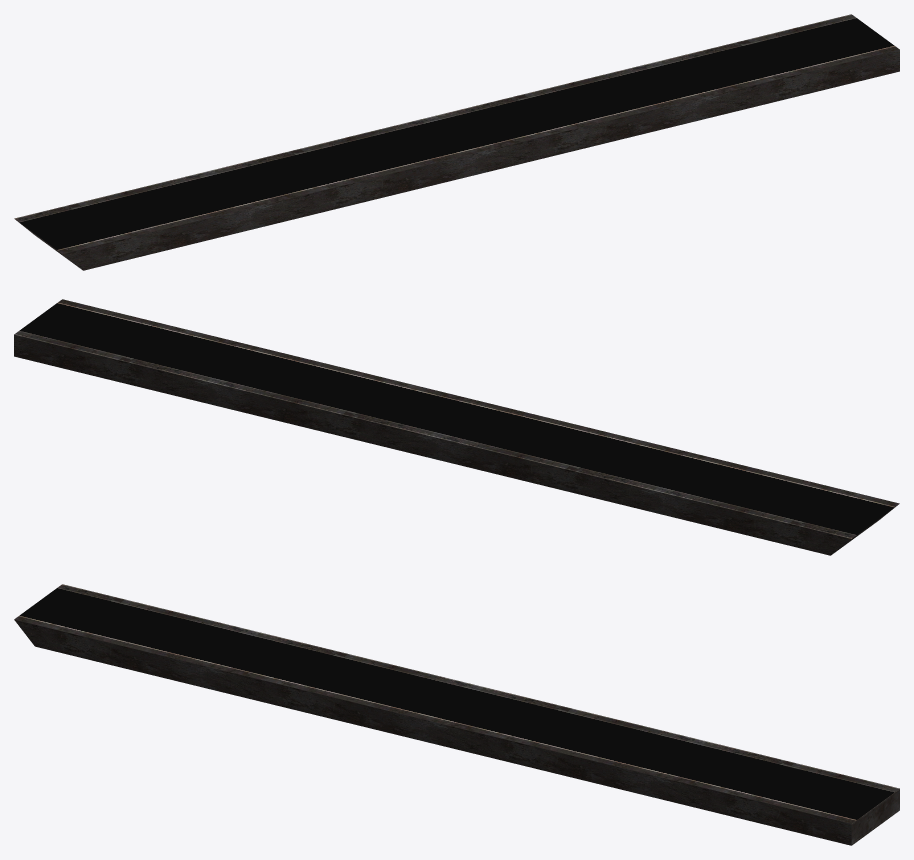
File: newsticker_right.fbx
The picture shows the model from 3 angles, top to bottom: view 1: azimuth 30°, elevation 25°; view 2: azimuth 150°, elevation 25°; view 3: azimuth 330°, elevation 25°; orthographic projection.
Parts seen in each view (by area): view 1: mesh_0; view 2: mesh_0; view 3: mesh_0.
Boxes of the visible parts, x1,y1,x2,y2 form: mesh_0: (14, 14, 899, 270); mesh_0: (14, 299, 899, 555); mesh_0: (14, 584, 899, 845).
Size of the model in its own units: 2000 by 50 by 200.
Materials: 1 (1 with a texture image).
